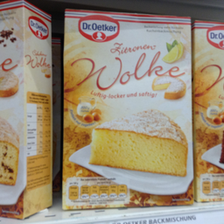cake: (59, 7, 199, 214), (1, 1, 53, 220)
